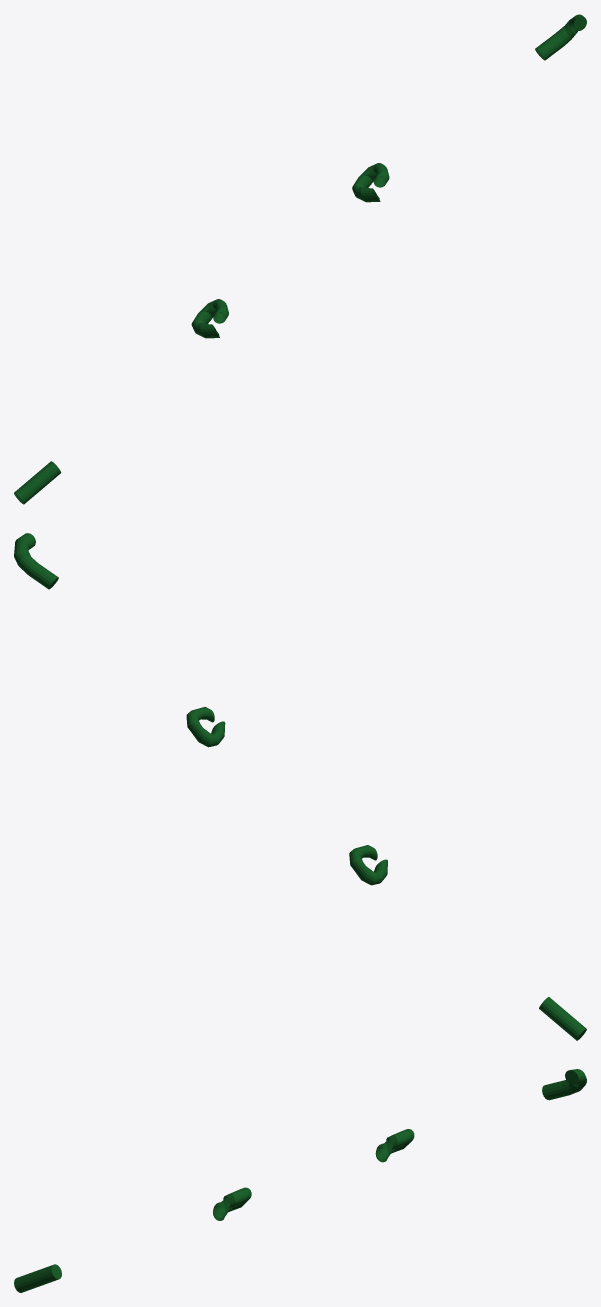
Rendered from Vine_3.fbx.
The picture shows the model from 3 angles, top to bottom: view 1: azimuth 30°, elevation 25°; view 2: azimuth 150°, elevation 25°; view 3: azimuth 330°, elevation 25°; orthographic projection.
Visible parts, largest first — view 1: SM_Vine_3; view 2: SM_Vine_3; view 3: SM_Vine_3.
Boxes of the visible parts, x1,y1,x2,y2 form: SM_Vine_3: (14,14,586,504); SM_Vine_3: (14,533,586,1040); SM_Vine_3: (14,1069,586,1292).
Bounding box in the file's own units: 8.13 × 4.94 × 0.6434.
